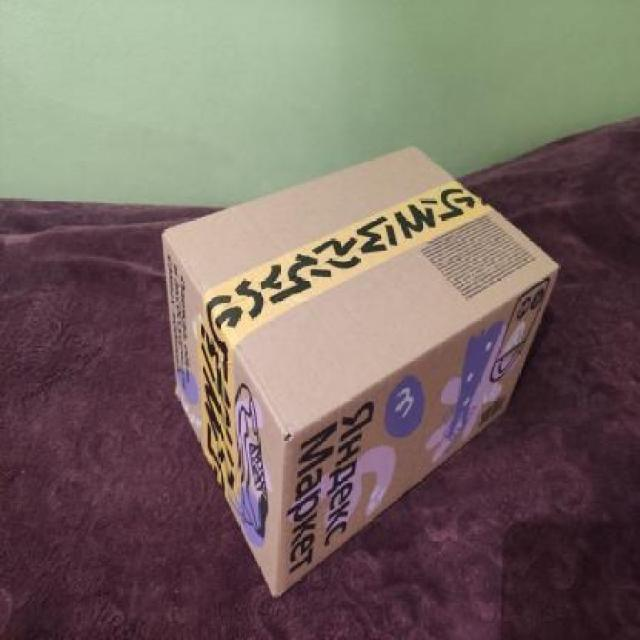box: (156, 129, 555, 595)
